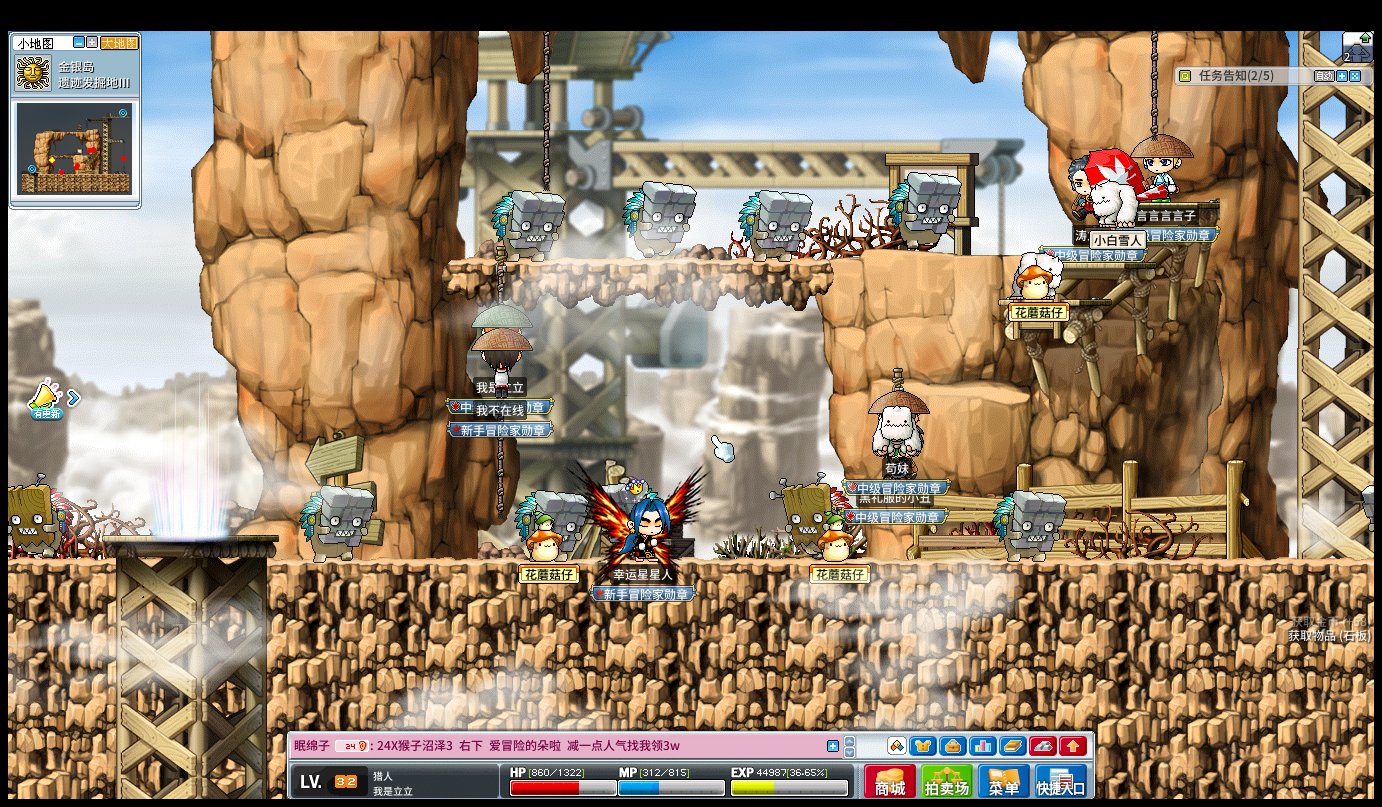floor: (296, 555, 1327, 567), (450, 256, 829, 269), (925, 382, 1030, 404), (100, 533, 282, 543), (994, 297, 1108, 308), (947, 250, 1067, 260), (7, 557, 116, 568), (997, 297, 1112, 305), (1134, 199, 1224, 205)
monster: (621, 180, 698, 261), (771, 475, 845, 556), (886, 171, 960, 251), (299, 485, 373, 562), (490, 188, 566, 262), (737, 188, 810, 262), (4, 477, 70, 558), (992, 490, 1066, 560)
rope: (542, 29, 551, 193), (492, 250, 507, 316), (1148, 30, 1157, 137), (493, 437, 503, 517)
